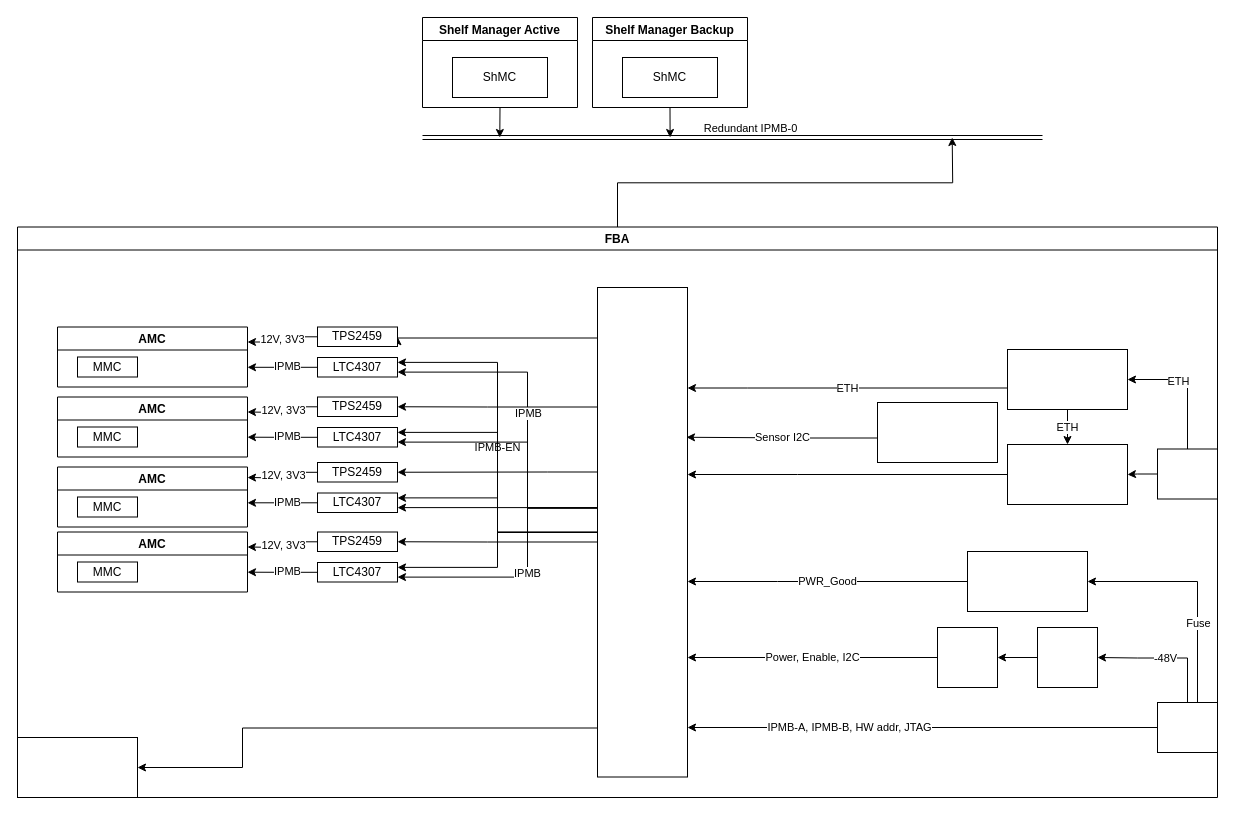
This 1235x815 diagram has some shape labels left out. Each missing label, with the centre of its shape:
"Barracuda" belongs at point (967, 657).
"CERN IPMC (Carrier IPMC)" belongs at point (642, 531).
"ETH SW" belongs at point (1067, 379).
"Handle LEDs" belongs at point (77, 767).
"KRIA K26 Module" belongs at point (1067, 474).
"LTC1921" belongs at point (1027, 581).
"PIM400" belongs at point (1067, 657).
"Sensors" belongs at point (937, 432).
"Z1" belongs at point (1187, 727).
"Z2" belongs at point (1187, 473).
